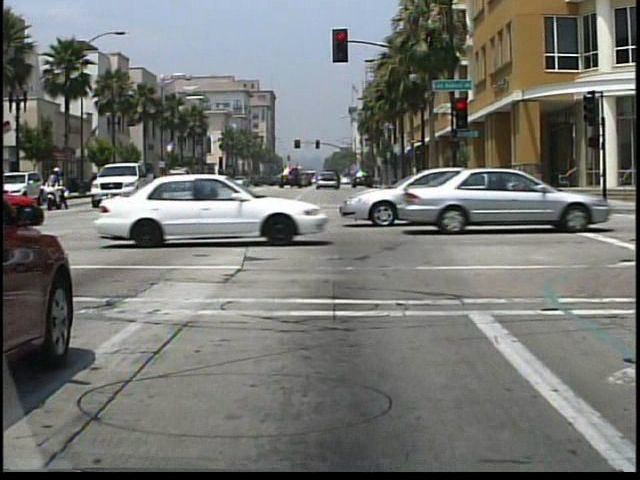person: (44, 166, 71, 213)
